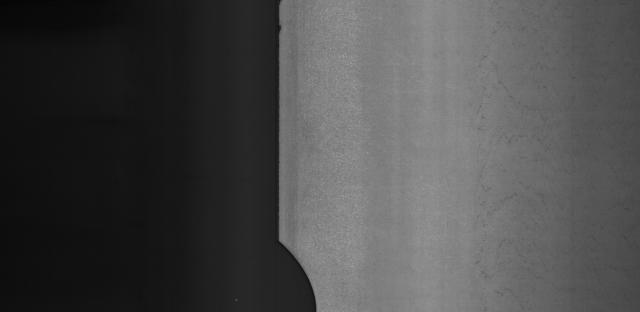crescent_gap: (266, 229, 338, 312)
